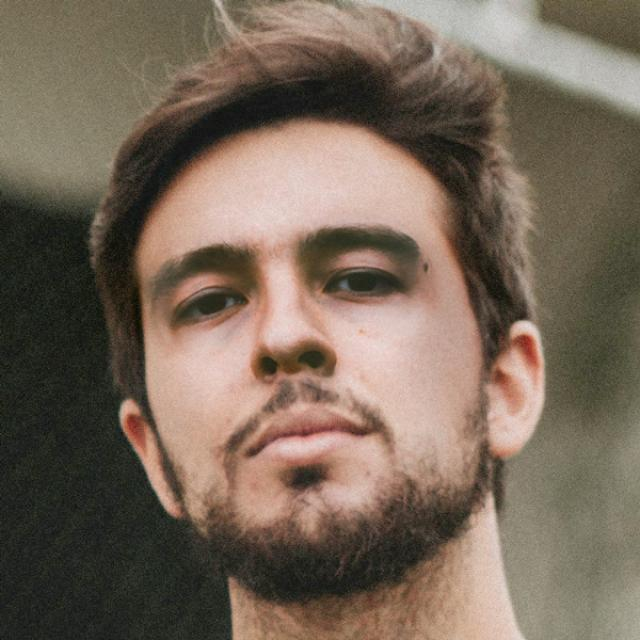face: (83, 106, 563, 574)
